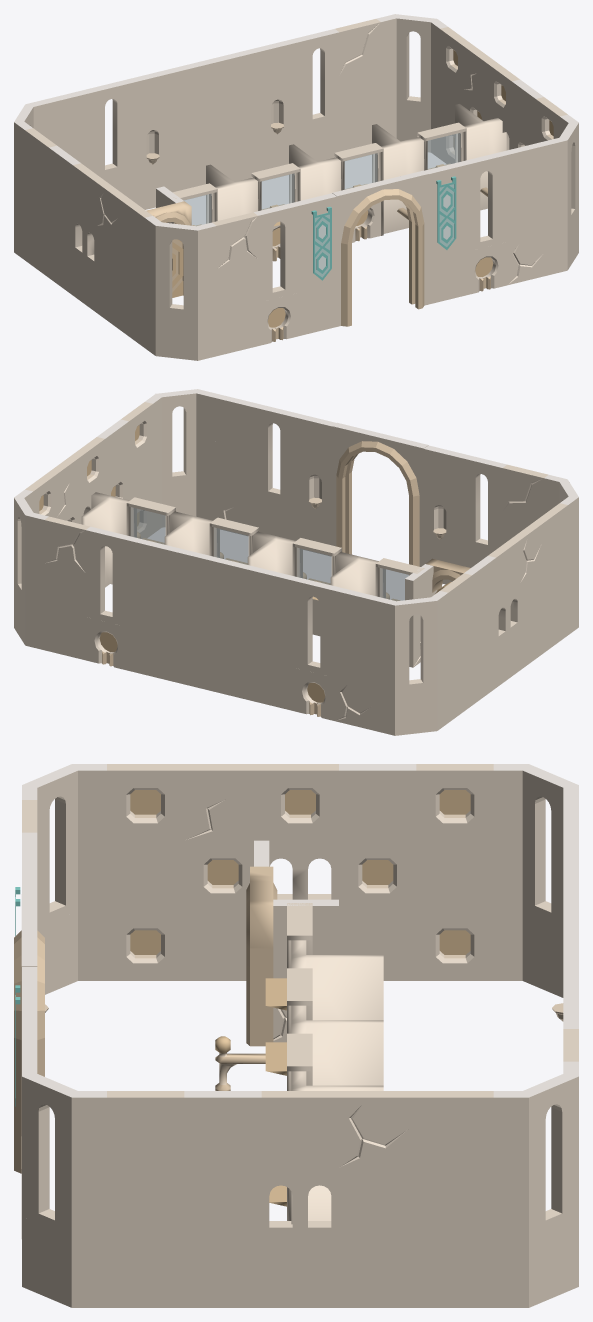
Rendered from Bank.glb.
3 views of the same model, one above another, from view 1: azimuth 30°, elevation 25°; view 2: azimuth 150°, elevation 25°; view 3: azimuth 270°, elevation 25° (orthographic). The views are drawn at different scales.
Visible parts, largest first — view 1: object1.063, object1.223, object2.117, object1.267, object2.116, object2.118, object1.227, object1.228, object1.255, object1.253, object1.231, object1.232 (+64 smaller); view 2: object1.269, object1.063, object1.232, object2.116, object1.255, object2.118, object1.227, object1.253, object1.228, object2.117, object1.270, object1.267 (+64 smaller); view 3: object1.267, object1.232, object1.269, object1.223, object2.116, object2.119, object1.268, object1.233, object1.236, object1.239, object1.241, object1.244 (+33 smaller).
Boxes of the visible parts, x1,y1,x2,y2 form: object1.063: (332,170,428,326); object1.223: (144,216,216,317); object2.117: (334,124,423,242); object1.267: (376,14,447,115); object2.116: (251,144,340,261); object2.118: (417,104,506,210); object1.227: (461,151,507,251); object1.228: (254,202,299,302); object1.255: (294,29,339,129); object1.253: (86,79,131,177); object1.231: (144,305,216,360); object1.232: (544,114,578,231); object1.269: (376,591,448,692); object1.063: (332,422,428,575); object1.232: (145,389,216,490); object2.116: (247,531,341,636); object1.255: (85,526,131,626); object2.118: (81,492,175,587); object1.227: (253,404,298,504); object1.253: (293,577,338,677); object1.228: (461,454,506,552); object2.117: (164,511,258,564); object1.270: (376,680,448,735); object1.267: (14,489,48,606); object1.267: (493,1061,578,1237); object1.232: (22,1061,106,1237); object1.269: (493,764,578,927); object1.223: (22,764,106,927); object2.116: (265,968,383,1085); object2.119: (265,903,383,1020); object1.268: (493,1217,578,1307); object1.233: (22,1217,106,1307); object1.236: (107,1091,184,1167); object1.239: (107,764,184,840); object1.241: (261,1091,338,1167); object1.244: (184,1091,261,1167).
Size of the model in its own units: 10.2 by 3.01 by 7.3.
